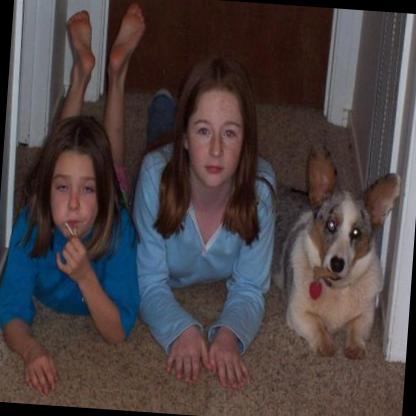Cardigan: (264, 136, 404, 366)
